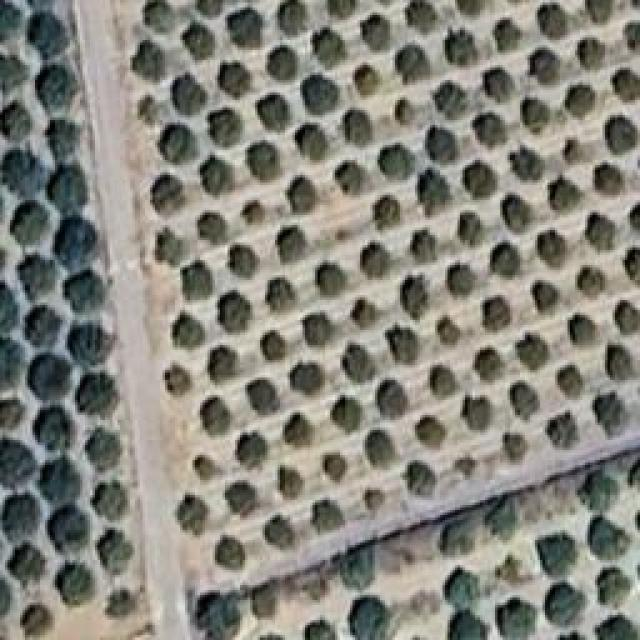Tree: (583, 513, 635, 561), (55, 215, 99, 271), (195, 592, 243, 640), (345, 592, 393, 640), (38, 455, 82, 506), (495, 595, 543, 640), (48, 163, 89, 215), (28, 355, 72, 403), (70, 325, 115, 370), (3, 150, 46, 196), (65, 267, 108, 313), (35, 62, 77, 109), (48, 505, 89, 552), (10, 198, 50, 246), (5, 543, 48, 587), (18, 253, 58, 300), (78, 372, 119, 417), (25, 15, 70, 56), (3, 495, 42, 541), (548, 582, 587, 628), (35, 405, 74, 450), (538, 535, 580, 575), (53, 565, 96, 604), (98, 530, 134, 576), (25, 305, 64, 347), (435, 75, 471, 120), (437, 518, 482, 554), (158, 125, 198, 165), (302, 75, 340, 116), (340, 545, 378, 586), (580, 470, 618, 511), (397, 273, 430, 320), (85, 428, 121, 471), (200, 155, 236, 198), (598, 573, 636, 613), (607, 107, 640, 153), (595, 395, 632, 436), (18, 598, 56, 637), (243, 375, 280, 415), (313, 28, 349, 69), (245, 140, 281, 181), (175, 495, 210, 537), (3, 442, 34, 489), (533, 0, 571, 38), (173, 75, 208, 116), (48, 120, 82, 162), (218, 290, 252, 332), (255, 88, 287, 132), (343, 343, 378, 383), (235, 430, 269, 471), (363, 428, 400, 465), (93, 483, 129, 521), (528, 45, 566, 81), (275, 225, 310, 264), (150, 174, 184, 214), (133, 40, 166, 81), (183, 260, 216, 301), (605, 340, 635, 385), (588, 210, 619, 253), (208, 108, 243, 146), (445, 30, 480, 68), (518, 95, 553, 133), (565, 310, 599, 349), (378, 380, 411, 420), (460, 162, 498, 196), (387, 328, 421, 366), (507, 380, 541, 418), (416, 170, 448, 210), (0, 100, 31, 141), (395, 42, 431, 77), (183, 23, 217, 60), (105, 590, 143, 623), (575, 260, 607, 299), (230, 7, 261, 47), (405, 460, 436, 500), (515, 335, 550, 370), (228, 243, 264, 277), (500, 428, 534, 464), (495, 193, 529, 229), (220, 63, 253, 100), (381, 145, 414, 182), (472, 343, 505, 380), (446, 568, 478, 606), (288, 175, 319, 214), (200, 398, 231, 437), (0, 55, 31, 94), (360, 15, 394, 50), (590, 160, 625, 194), (333, 395, 364, 433), (407, 230, 441, 264), (425, 127, 458, 162), (0, 335, 21, 390), (265, 275, 297, 311), (547, 413, 579, 449), (265, 510, 296, 547), (416, 415, 448, 450), (577, 35, 609, 70), (608, 65, 640, 100), (268, 45, 299, 81), (295, 125, 325, 162), (208, 345, 238, 382), (510, 148, 547, 178), (0, 0, 23, 48), (290, 363, 324, 395), (482, 70, 516, 102), (283, 412, 314, 447), (460, 398, 491, 433), (360, 243, 390, 279), (278, 465, 307, 502), (155, 228, 183, 266), (537, 230, 569, 263), (173, 314, 204, 348), (568, 82, 599, 116), (0, 398, 27, 437), (443, 265, 478, 295), (533, 275, 563, 310), (278, 0, 307, 36), (313, 500, 342, 536), (345, 110, 373, 147), (225, 480, 253, 517), (315, 263, 346, 296), (452, 610, 486, 640), (498, 552, 528, 586), (480, 297, 510, 331), (373, 195, 402, 230), (198, 213, 228, 246), (475, 110, 505, 143), (0, 280, 19, 332), (335, 163, 364, 196), (135, 92, 163, 126), (613, 300, 640, 335), (145, 3, 175, 34), (214, 535, 244, 566), (407, 0, 436, 32), (354, 62, 382, 94), (547, 180, 579, 208), (458, 210, 484, 244), (305, 313, 331, 346), (433, 318, 461, 347), (495, 20, 522, 50), (430, 371, 460, 398), (558, 368, 585, 398), (260, 330, 286, 361), (165, 365, 191, 396), (255, 585, 278, 619), (320, 453, 350, 479), (353, 298, 378, 329), (588, 0, 618, 24), (493, 245, 517, 274), (560, 135, 583, 165), (193, 455, 220, 480), (623, 243, 640, 282), (450, 455, 477, 479), (393, 98, 416, 126), (456, 0, 488, 19), (308, 620, 338, 640), (330, 0, 360, 18), (360, 490, 382, 514), (623, 20, 640, 49), (243, 203, 264, 225), (630, 202, 640, 230)
